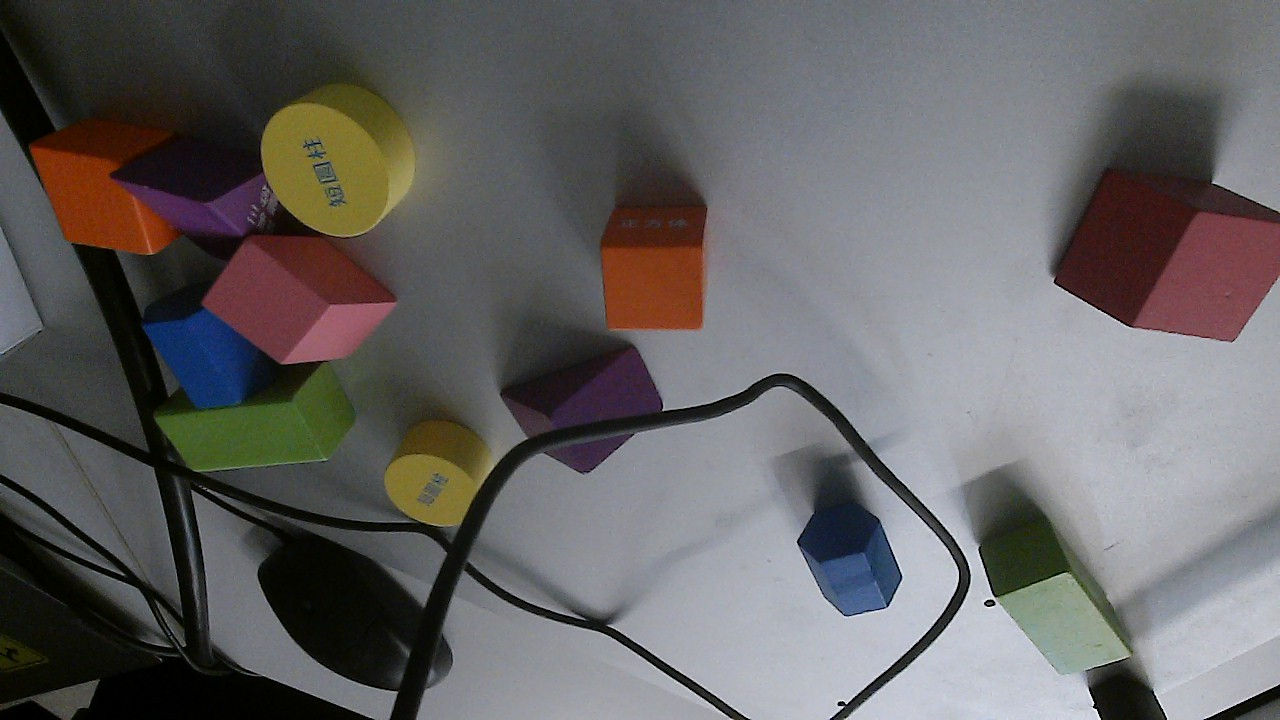circle: (259, 84, 417, 239), (381, 416, 491, 525)
diamond: (1049, 164, 1280, 348), (201, 235, 396, 366)
hexagon: (136, 280, 259, 406), (800, 498, 902, 616)
rectangle: (977, 515, 1136, 682), (142, 354, 362, 471)
square: (31, 113, 180, 256), (596, 201, 715, 335)
triangle: (106, 124, 292, 264), (495, 342, 666, 473)
